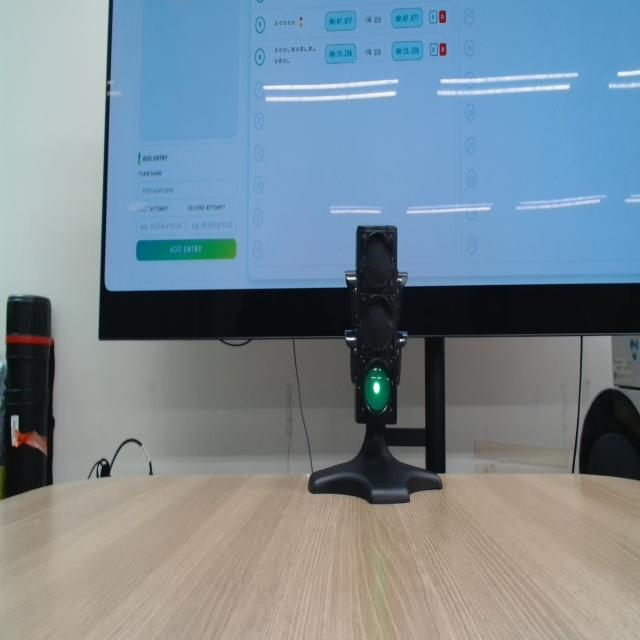green_light: (364, 367, 391, 413)
